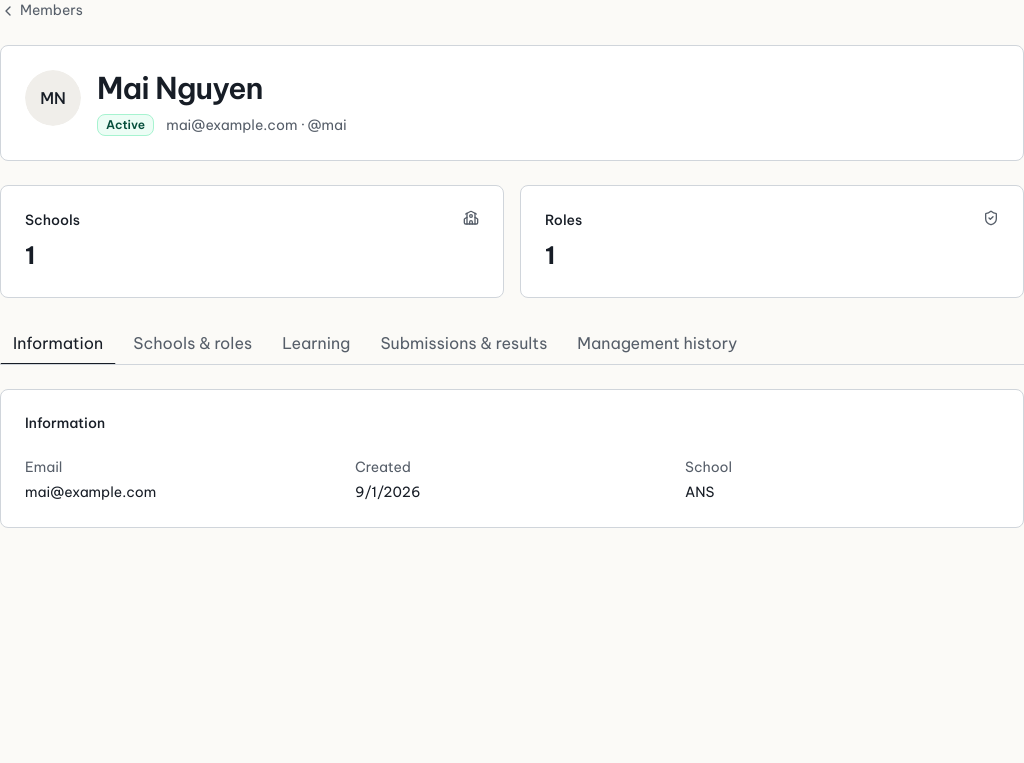
MemberProfile › locks a central role assignment to central scope
This screenshot has width=1024, height=763.
Click the tab "Schools & roles".
click(193, 343)  # box [120,322,265,365]
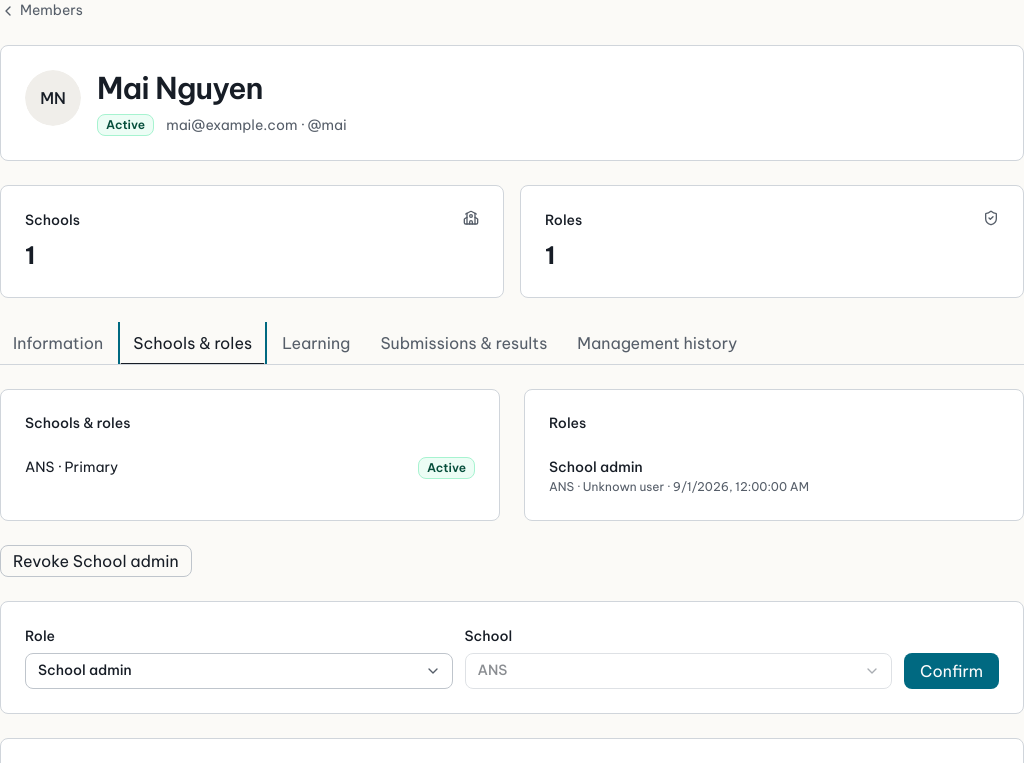
Select "Central reviewer" in the dropdown labelled "Role" at (239, 671), box [25,653,452,689]
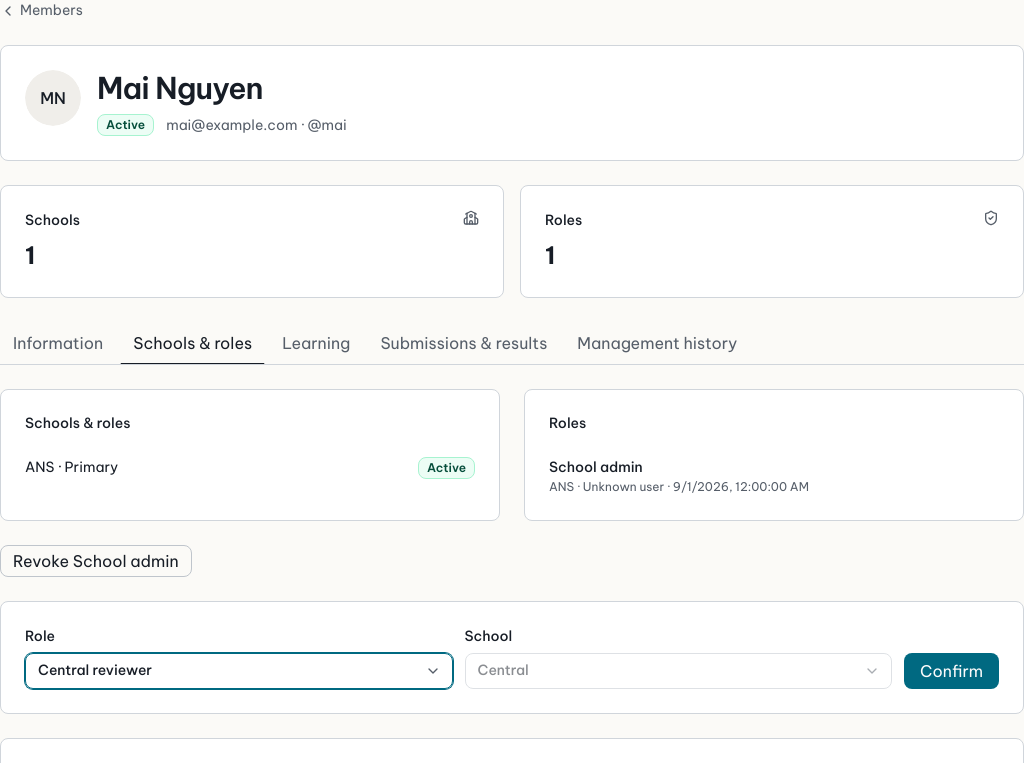
Now the dropdown labelled "School" is disabled, box [464,653,892,689]
Now the dropdown labelled "School" shows "Central", box [464,653,892,689]
